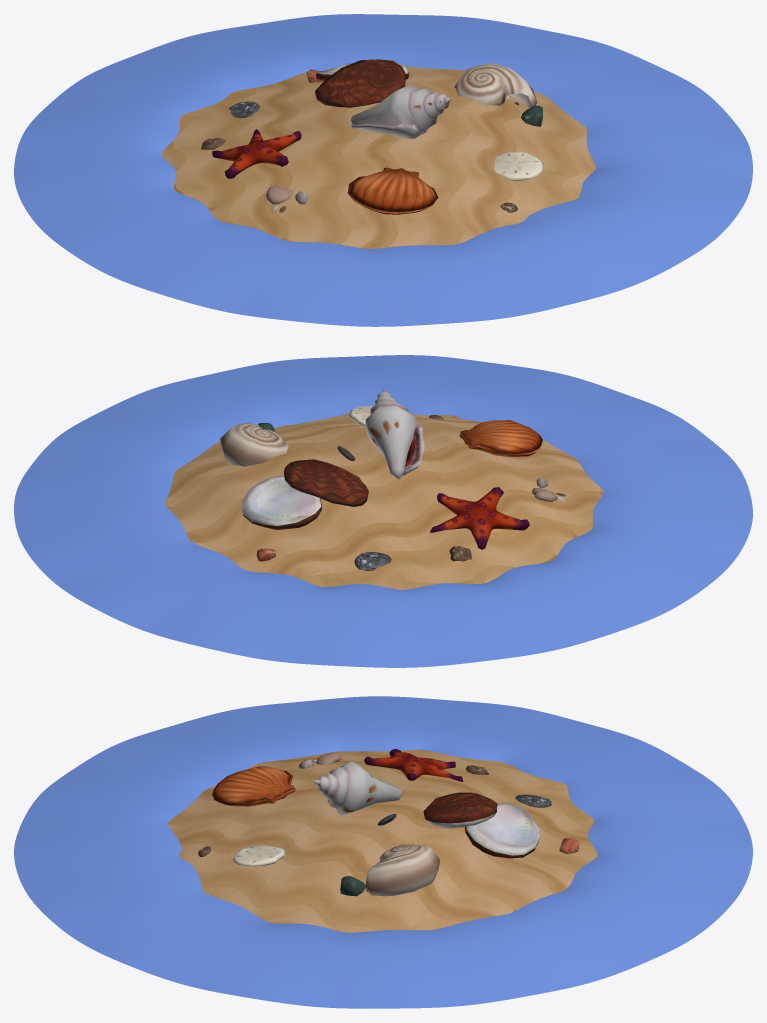
The picture shows the model from 3 angles, top to bottom: view 1: azimuth 30°, elevation 25°; view 2: azimuth 150°, elevation 25°; view 3: azimuth 270°, elevation 25°; orthographic projection.
Parts seen in each view (by area): view 1: Sea_24, Sand_16, Cone_Shell_22, mother_of_pearl_20, Shell.001_25, Naut_shell_21, Star_fish_23, Sand_Dolla_18; view 2: Sea_24, Sand_16, Cone_Shell_22, mother_of_pearl.001_19, mother_of_pearl_20, Star_fish_23, Naut_shell_21, Shell.001_25, Pepple.005_2; view 3: Sea_24, Sand_16, Naut_shell_21, mother_of_pearl.001_19, Cone_Shell_22, Shell.001_25, mother_of_pearl_20, Star_fish_23, Sand_Dolla_18.
Part boxes in pixels (bbox=[...]): Sea_24: bbox=[14, 14, 752, 326]; Sand_16: bbox=[161, 66, 595, 248]; Cone_Shell_22: bbox=[349, 84, 452, 138]; mother_of_pearl_20: bbox=[315, 59, 405, 107]; Shell.001_25: bbox=[349, 167, 438, 211]; Naut_shell_21: bbox=[454, 62, 537, 107]; Star_fish_23: bbox=[212, 129, 301, 178]; Sand_Dolla_18: bbox=[494, 152, 543, 181]; Sea_24: bbox=[14, 355, 752, 667]; Sand_16: bbox=[164, 413, 603, 589]; Cone_Shell_22: bbox=[365, 389, 424, 479]; mother_of_pearl.001_19: bbox=[242, 475, 321, 529]; mother_of_pearl_20: bbox=[284, 459, 368, 506]; Star_fish_23: bbox=[430, 487, 529, 549]; Naut_shell_21: bbox=[220, 423, 288, 466]; Shell.001_25: bbox=[460, 420, 542, 454]; Pepple.005_2: bbox=[354, 552, 391, 570]; Sea_24: bbox=[14, 696, 752, 1008]; Sand_16: bbox=[167, 749, 597, 932]; Naut_shell_21: bbox=[365, 844, 439, 896]; mother_of_pearl.001_19: bbox=[464, 802, 539, 858]; Cone_Shell_22: bbox=[313, 761, 402, 815]; Shell.001_25: bbox=[212, 766, 293, 805]; mother_of_pearl_20: bbox=[423, 792, 497, 828]; Star_fish_23: bbox=[364, 749, 463, 781]; Sand_Dolla_18: bbox=[232, 845, 285, 866].
Bounding box in the file's own units: 13.68 × 1.89 × 13.68.
10 materials, 9 textured.
